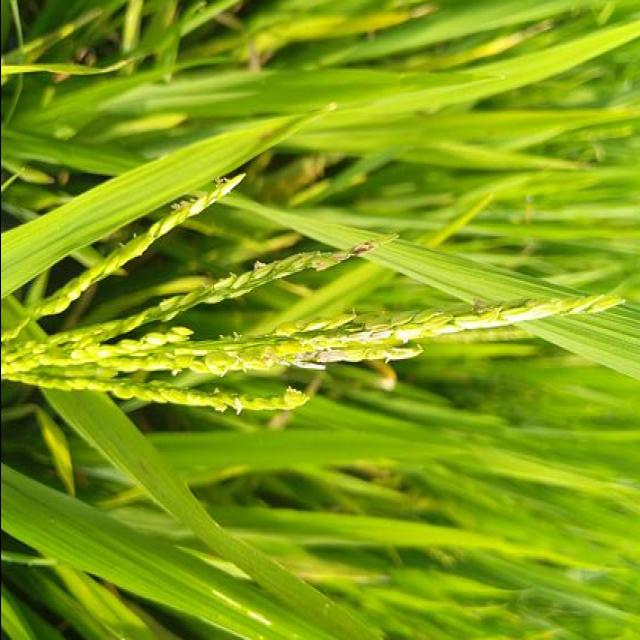Panicle Blight: (292, 350, 345, 370), (337, 240, 379, 264)
